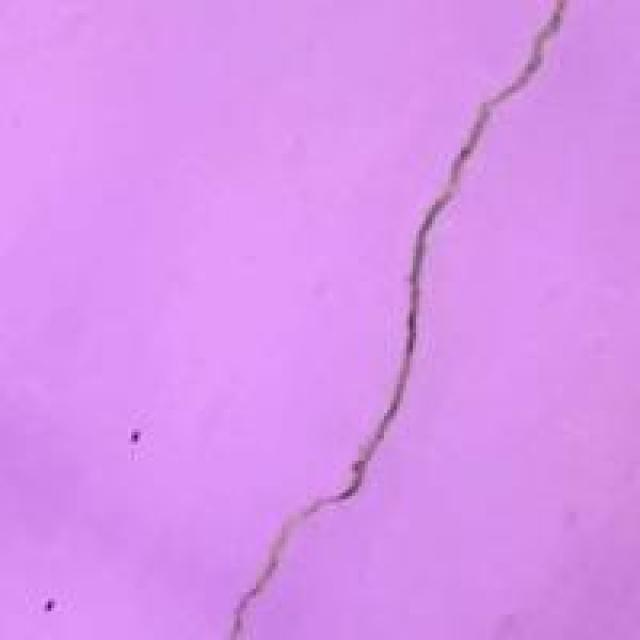crack: (230, 0, 566, 637)
